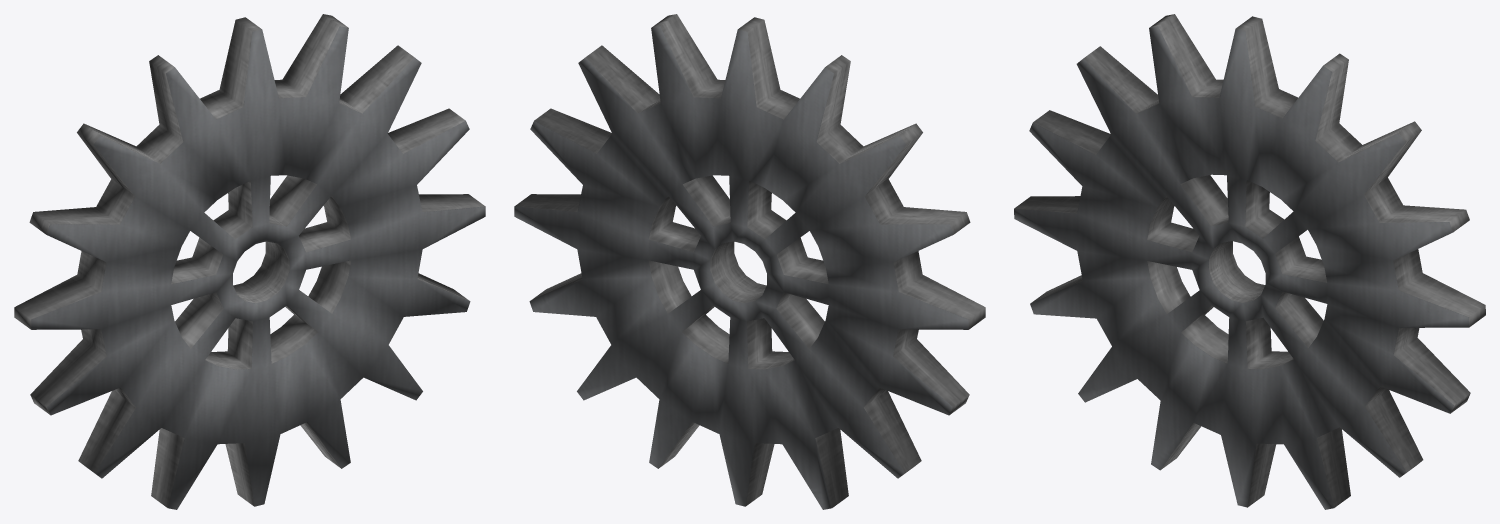
3 renders of one model, left to right at view 1: azimuth 30°, elevation 25°; view 2: azimuth 150°, elevation 25°; view 3: azimuth 330°, elevation 25°, orthographic.
Visible parts, largest first — view 1: gear_16; view 2: gear_16; view 3: gear_16.
Boxes of the visible parts, <box> form: gear_16: <box>14,14,485,509</box>; gear_16: <box>514,14,985,509</box>; gear_16: <box>1014,14,1485,509</box>.
Size of the model in its own units: 2.19 by 2.19 by 0.2.
1 material, 1 textured.
